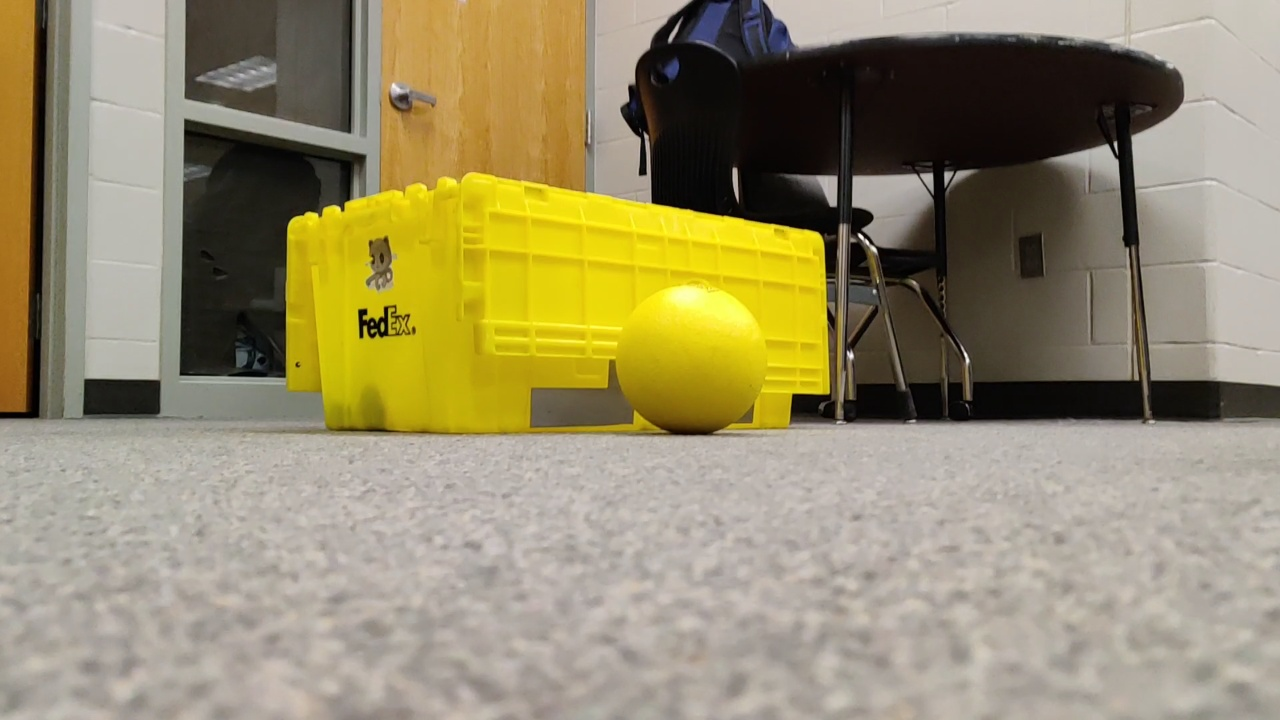Ball: (606, 280, 772, 433)
